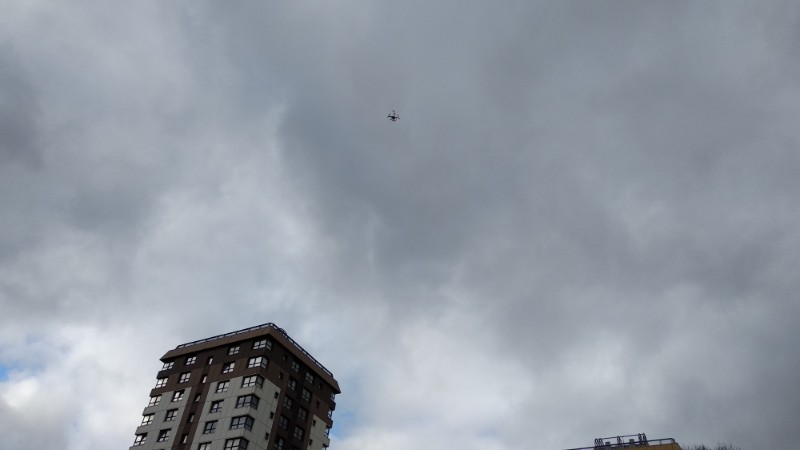drone: (387, 111, 401, 121)
